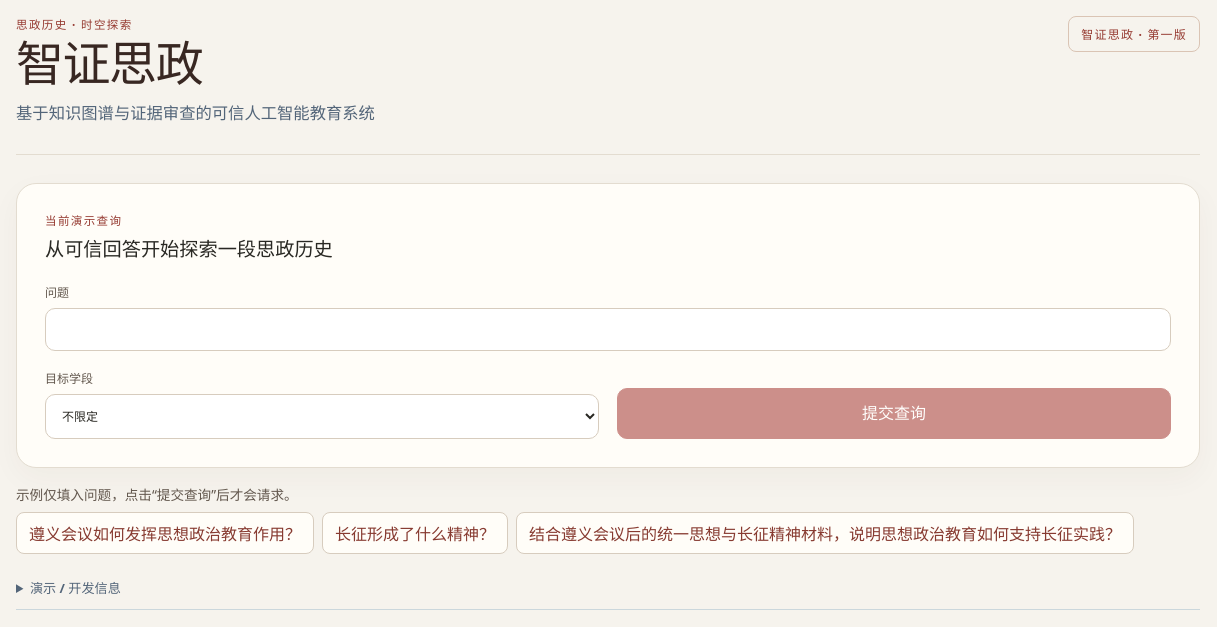
Test: LearningFlowView › fills the composite question without automatically submitting it
The image size is (1217, 627).
Click the button "结合遵义会议后的统一思想与长征精神材料，说明思想政治教育如何支持长征实践？" at point(825, 533), box left=516, top=512, right=1134, bottom=554
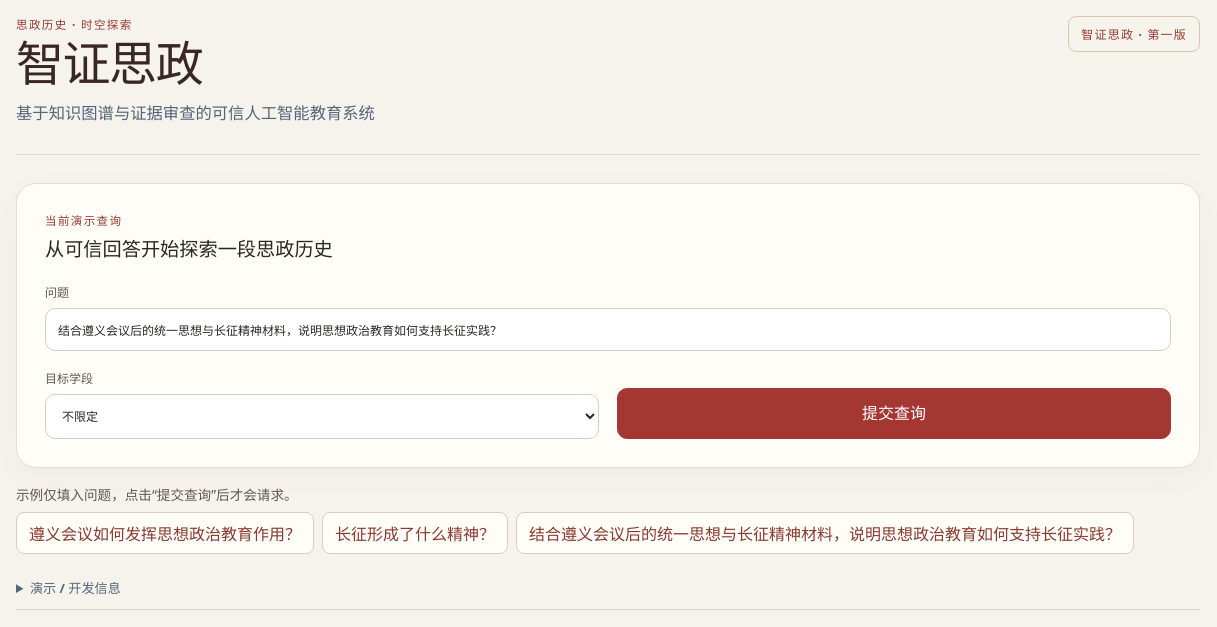
Result: the field named "查询问题" holds "结合遵义会议后的统一思想与长征精神材料，说明思想政治教育如何支持长征实践？" at left=45, top=308, right=1171, bottom=351
